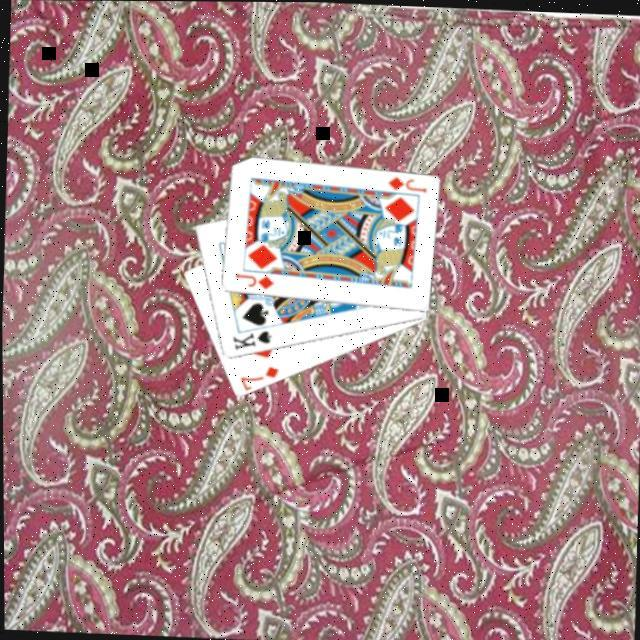7D: (235, 360, 280, 392)
JD: (230, 268, 276, 292), (383, 172, 428, 194)
KS: (227, 325, 273, 353)
